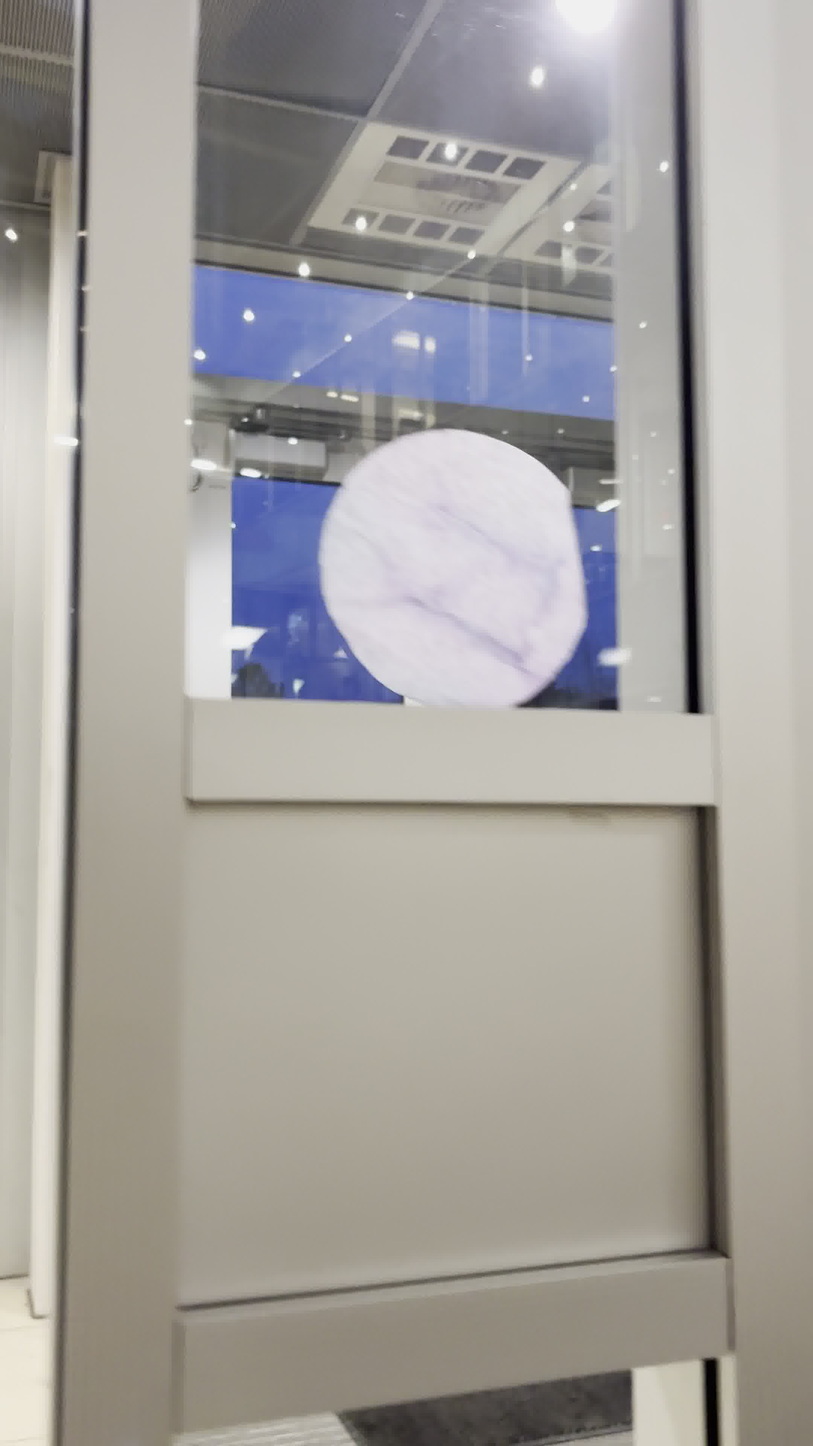Target: (311, 418, 601, 712)
